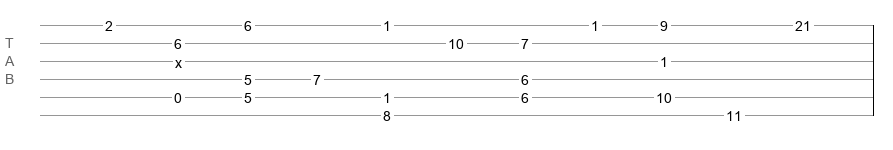0: (174, 90, 182, 100)
1: (383, 18, 391, 28), (383, 90, 391, 100), (591, 18, 599, 28), (660, 54, 668, 64)
10: (448, 36, 464, 46), (656, 90, 672, 100)
11: (726, 108, 742, 118)
2: (105, 18, 113, 28)
21: (795, 18, 811, 28)
5: (244, 72, 252, 82), (244, 90, 252, 100)
6: (174, 36, 182, 46), (244, 18, 252, 28), (521, 72, 529, 82), (521, 90, 529, 100)
7: (313, 72, 321, 82), (521, 36, 529, 46)
8: (383, 108, 391, 118)
9: (660, 18, 668, 28)
x: (175, 55, 182, 63)
